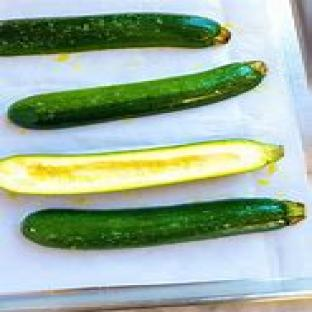Zucchini: (8, 61, 266, 128), (0, 140, 284, 193), (23, 200, 304, 249), (0, 14, 230, 55)
